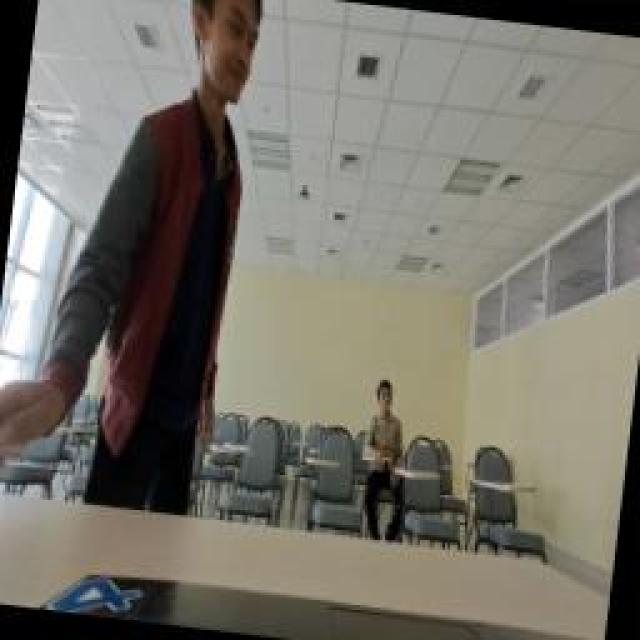study: (362, 377, 412, 465)
